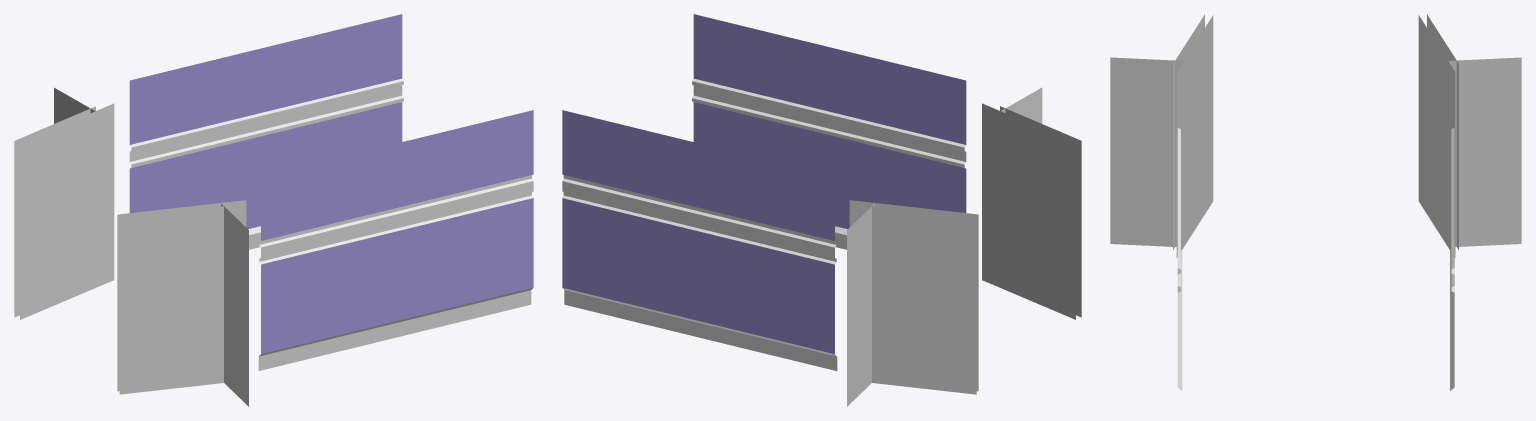
Rendered from Exit Wall.fbx.
The picture shows the model from 3 angles, left to right: view 1: azimuth 30°, elevation 25°; view 2: azimuth 150°, elevation 25°; view 3: azimuth 270°, elevation 25°; orthographic projection. The views are drawn at different scales.
Parts seen in each view (by area): view 1: Corridor Wall, wall.138, wall.132, wall.134, wall.136, wall.135, wall.133; view 2: Corridor Wall, wall.133, wall.136, wall.135, wall.138, wall.134, wall.132; view 3: Corridor Wall, wall.132, wall.133, wall.138, wall.136.
Boxes of the visible parts, bbox=[...] form: Corridor Wall: bbox=[14, 87, 248, 406]; wall.138: bbox=[349, 132, 442, 348]; wall.132: bbox=[440, 110, 533, 326]; wall.134: bbox=[258, 154, 351, 370]; wall.136: bbox=[220, 36, 312, 249]; wall.135: bbox=[129, 58, 221, 212]; wall.133: bbox=[311, 14, 403, 164]; Corridor Wall: bbox=[847, 87, 1081, 406]; wall.133: bbox=[562, 110, 655, 326]; wall.136: bbox=[653, 132, 746, 348]; wall.135: bbox=[744, 154, 837, 370]; wall.138: bbox=[783, 36, 875, 249]; wall.134: bbox=[874, 58, 966, 212]; wall.132: bbox=[692, 14, 784, 163]; Corridor Wall: bbox=[1110, 14, 1521, 257]; wall.132: bbox=[1177, 221, 1182, 390]; wall.133: bbox=[1450, 221, 1454, 390]; wall.138: bbox=[1177, 174, 1182, 344]; wall.136: bbox=[1450, 174, 1454, 344].
Bounding box in the file's own units: 1765 × 825 × 1487.
